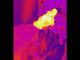Foc: (26, 6, 59, 34)
